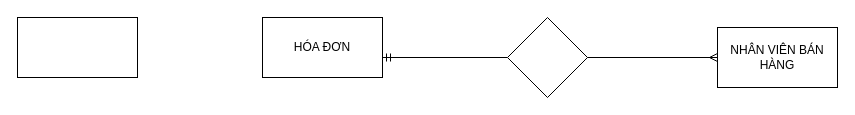
Some shapes in this 855 by 115 pixel diagram are drawn without their labels. The box of each missing label's shape, as (x1, y1, x2, y2) in pixels:
DUYỆT: (506, 16, 588, 98)
ĐƠN ĐẶT HÀNG CỦA KHÁCH HÀNG: (16, 16, 138, 78)
